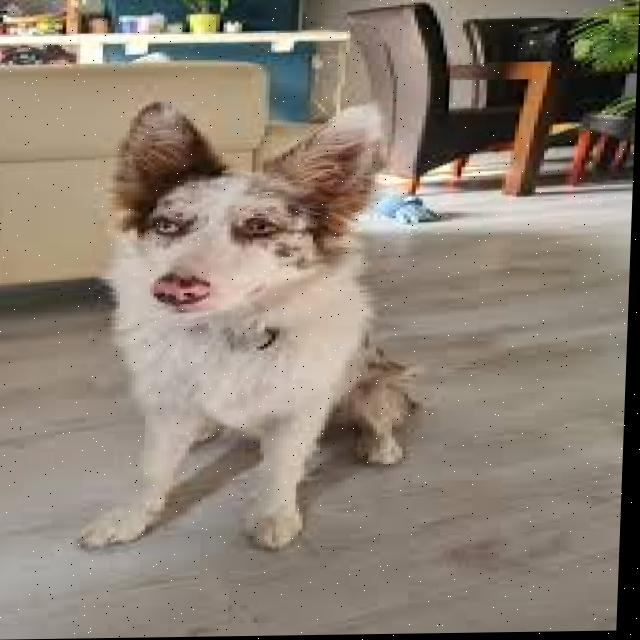BORDER_COLLIE: (49, 90, 464, 574)
